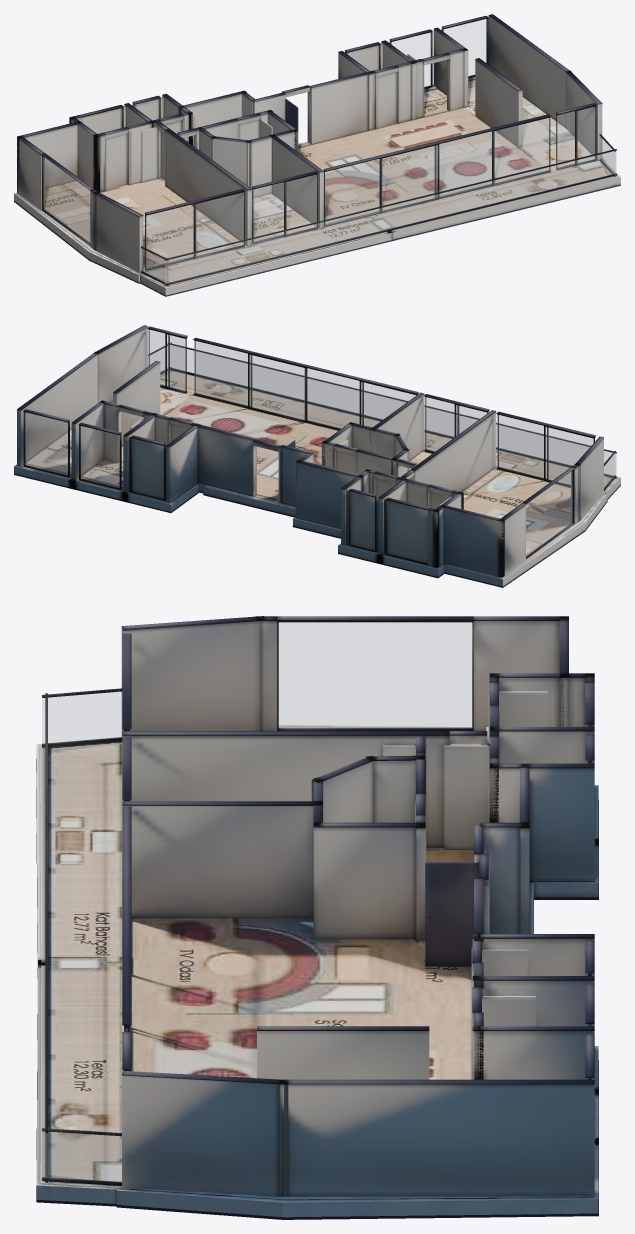
3 views of the same model, one above another, from view 1: azimuth 30°, elevation 25°; view 2: azimuth 150°, elevation 25°; view 3: azimuth 270°, elevation 25° (orthographic). The views are drawn at different scales.
Parts seen in each view (by area): view 1: plan, glass0_m, railg1_m, glass1_m, glass2_m, glass9_m, glass3_m, glass8_m, glass7_m, railg2_m; view 2: plan, glass0_m, railg1_m, glass1_m, glass9_m, glass8_m, glass4_m, glass7_m, glass2_m, glass3_m, glass6_m, glass5_m; view 3: plan, glass9_m, railg0_m, railg2_m.
Boxes of the visible parts, x1,y1,x2,y2 form: plan: (14,14,620,296); glass0_m: (325,118,548,224); railg1_m: (165,151,616,283); glass1_m: (146,192,243,268); glass2_m: (253,175,316,242); glass9_m: (43,157,89,242); glass3_m: (557,107,594,167); glass8_m: (444,19,486,75); glass7_m: (392,33,430,86); railg2_m: (141,249,168,283); plan: (14,325,620,587); glass0_m: (194,341,415,428); railg1_m: (170,345,616,476); glass1_m: (497,415,593,484); glass9_m: (526,471,572,556); glass8_m: (25,412,67,475); glass4_m: (388,501,427,562); glass7_m: (81,426,119,487); glass2_m: (425,397,486,451); glass3_m: (148,330,185,390); glass6_m: (133,439,163,498); glass5_m: (351,492,374,549); plan: (36,616,598,1219); glass9_m: (279,622,471,728); railg0_m: (42,1131,121,1182); railg2_m: (42,692,121,743).
Bounding box in the file's own units: 20.62 × 2.62 × 10.25.
Materials: 2 (1 with a texture image).
